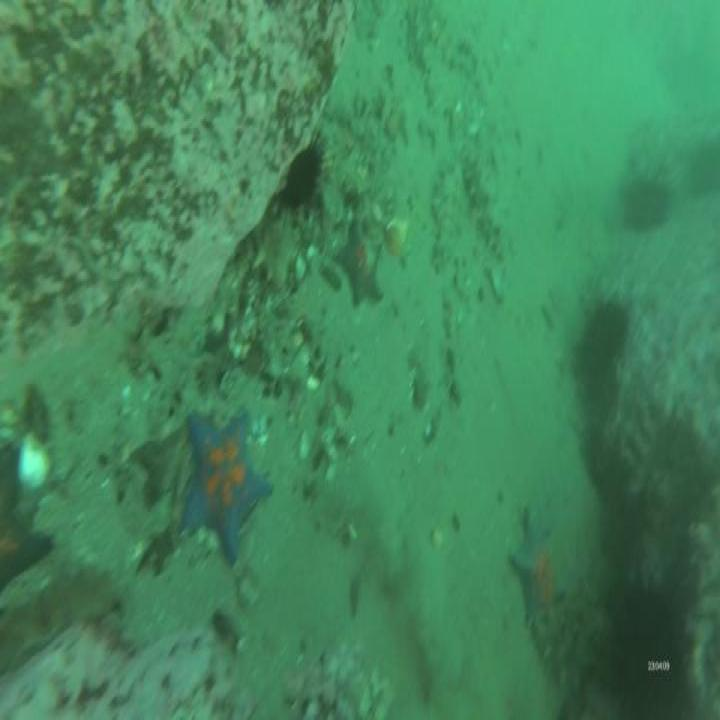echinus: (613, 590, 674, 686), (576, 302, 625, 393), (625, 183, 671, 233), (289, 148, 321, 208)
holothurian: (462, 153, 507, 254), (434, 165, 461, 274), (442, 300, 469, 404)
scallop: (387, 217, 406, 249)
starfish: (184, 414, 271, 564), (513, 507, 565, 618), (338, 226, 384, 308)
